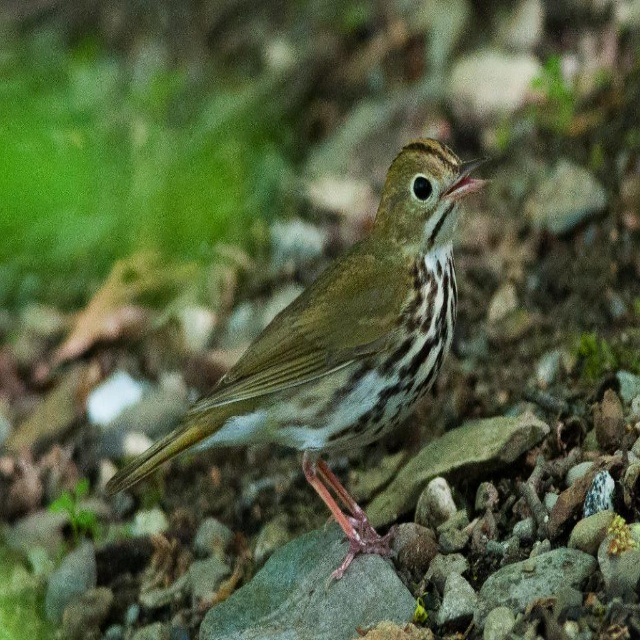Sparrow: (102, 129, 495, 592)
